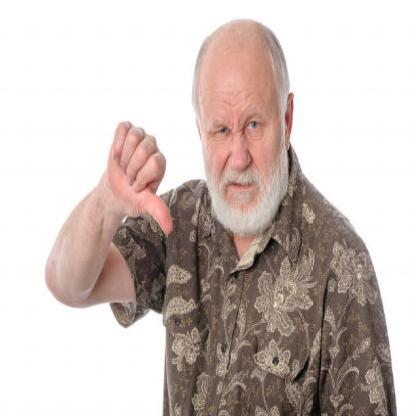thumb_down: (102, 112, 176, 240)
